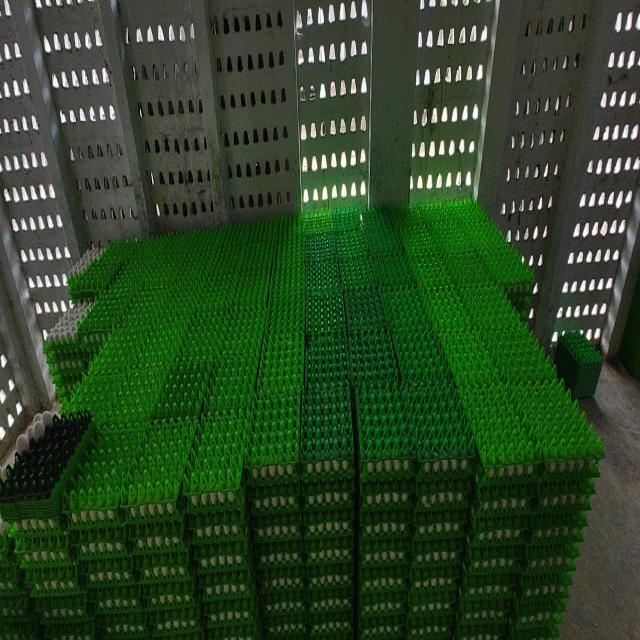egg_tray: (514, 385, 601, 631), (407, 383, 474, 636), (65, 426, 146, 632), (185, 409, 258, 636), (125, 418, 199, 636), (247, 394, 306, 635), (358, 386, 415, 633), (301, 387, 354, 635), (0, 411, 94, 523), (16, 520, 91, 627), (44, 301, 92, 396), (0, 522, 38, 637), (304, 332, 350, 387)
